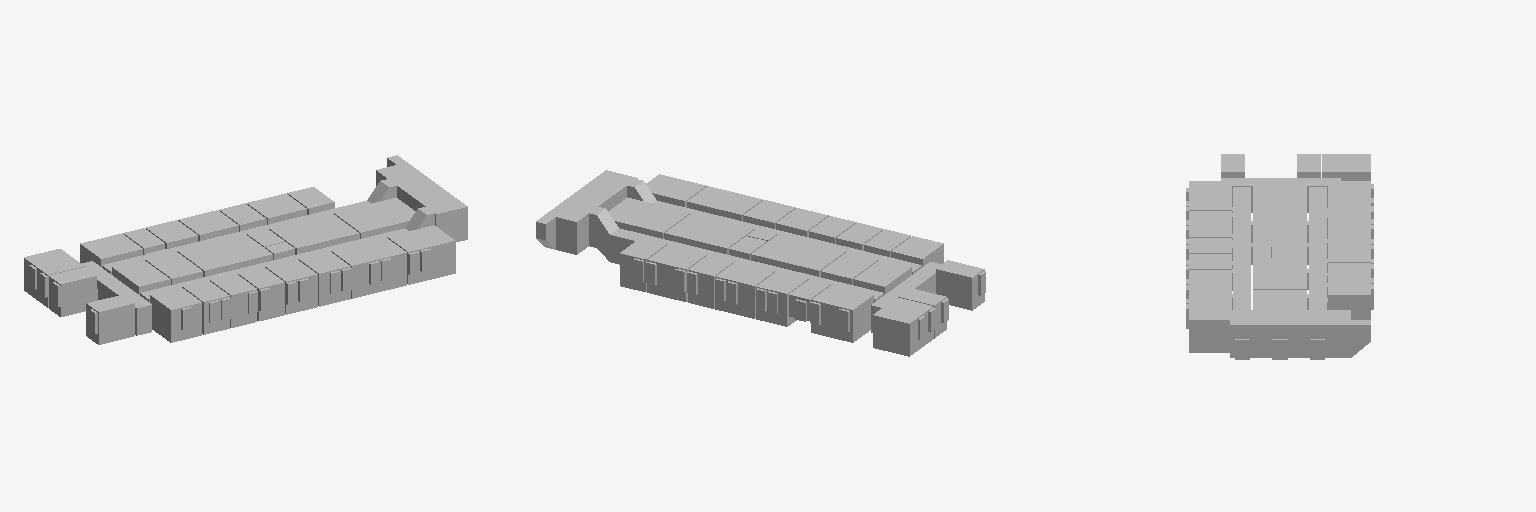
Rendered from AE_Quads_Rhino.obj.
3 views of the same model, side by side, from view 1: azimuth 30°, elevation 25°; view 2: azimuth 150°, elevation 25°; view 3: azimuth 270°, elevation 25° (orthographic).
Size of the model in its own units: 1734 by 192 by 744.